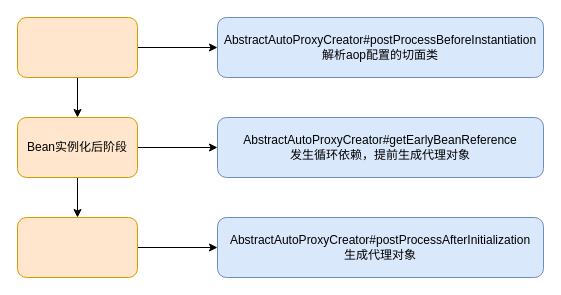
Image size: 561x295. Some labels were removed from this diagram. Here are the shapes that lost their labels. From the top down, the box of each, then its label:
(16, 16, 138, 78): Bean实例化前阶段
(16, 216, 138, 278): Bean初始化后阶段
